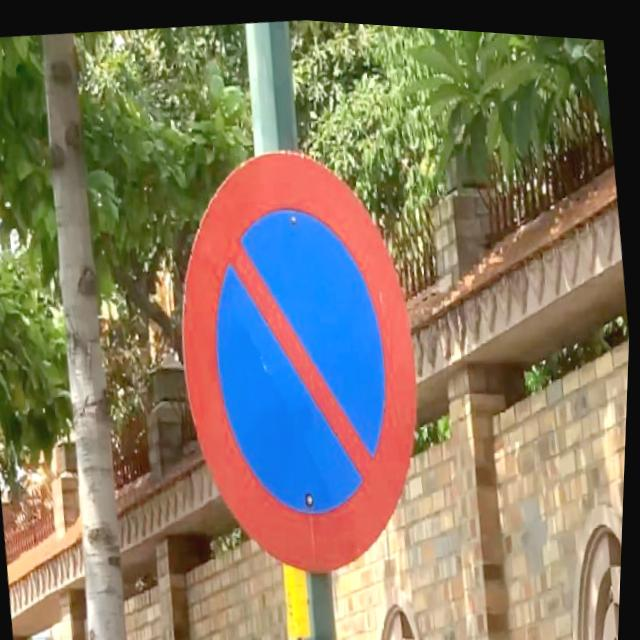Cam do xe: (146, 111, 452, 604)
